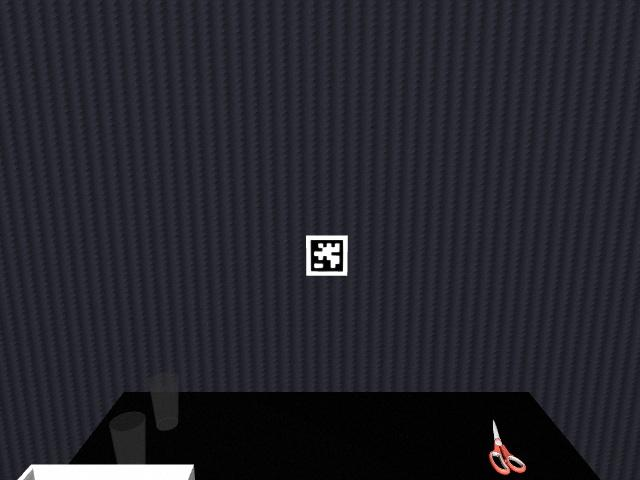cup: (109, 411, 147, 464), (148, 377, 179, 429)
scissors: (488, 419, 529, 475)
